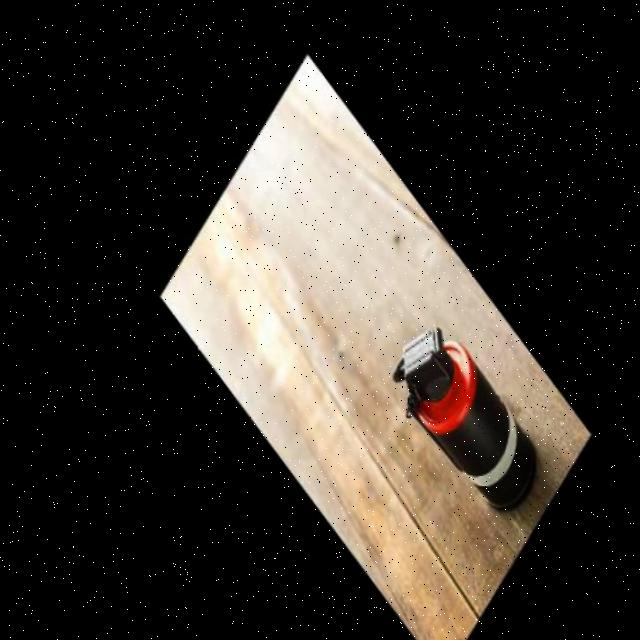grenade: (386, 304, 547, 510)
